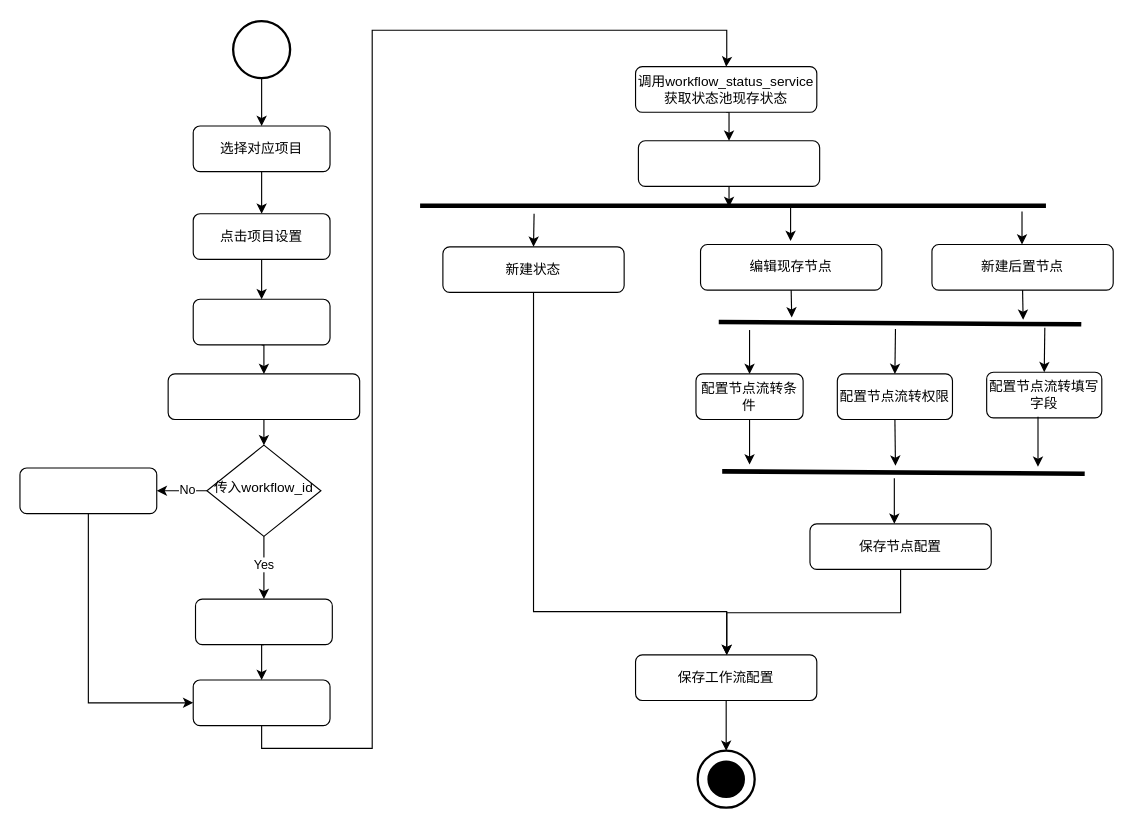
This 1133x828 diagram has some shape labels left out. The box of each missing label's shape, as (x1, y1, x2, y2) in pixels:
create_new_workflow 创建新并行工作流: (19, 467, 157, 514)
修改现存并行工作流: (194, 598, 332, 645)
初始化状态以及节点: (637, 140, 820, 186)
点击公共工作流: (192, 298, 330, 345)
编辑并行工作流: (192, 679, 330, 726)
调用CommonWorkflowService获取对应项目需求的工作流信息: (167, 373, 360, 420)
